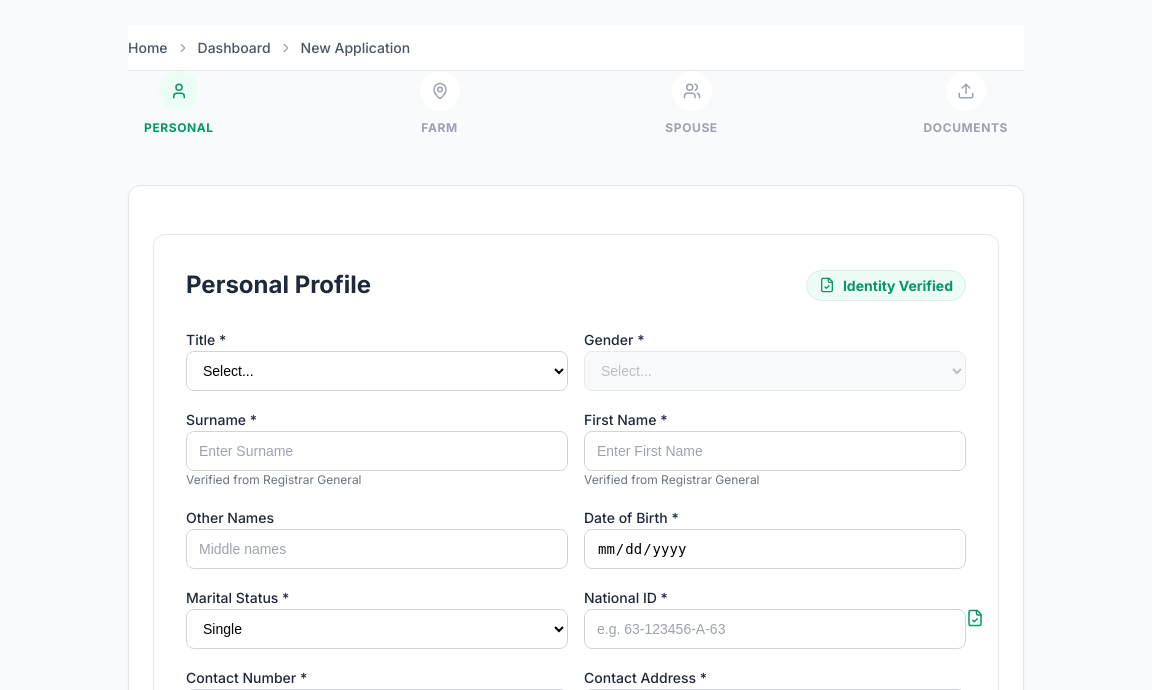
ApplicationForm - No Beneficiary Duplication › should not show beneficiary categories in Farm Details step
The width and height of the screenshot is (1152, 690).
Fill required fields to reach step 2
Select "Mr" in the dropdown below "Title *" at (377, 371), box [186,351,568,391]
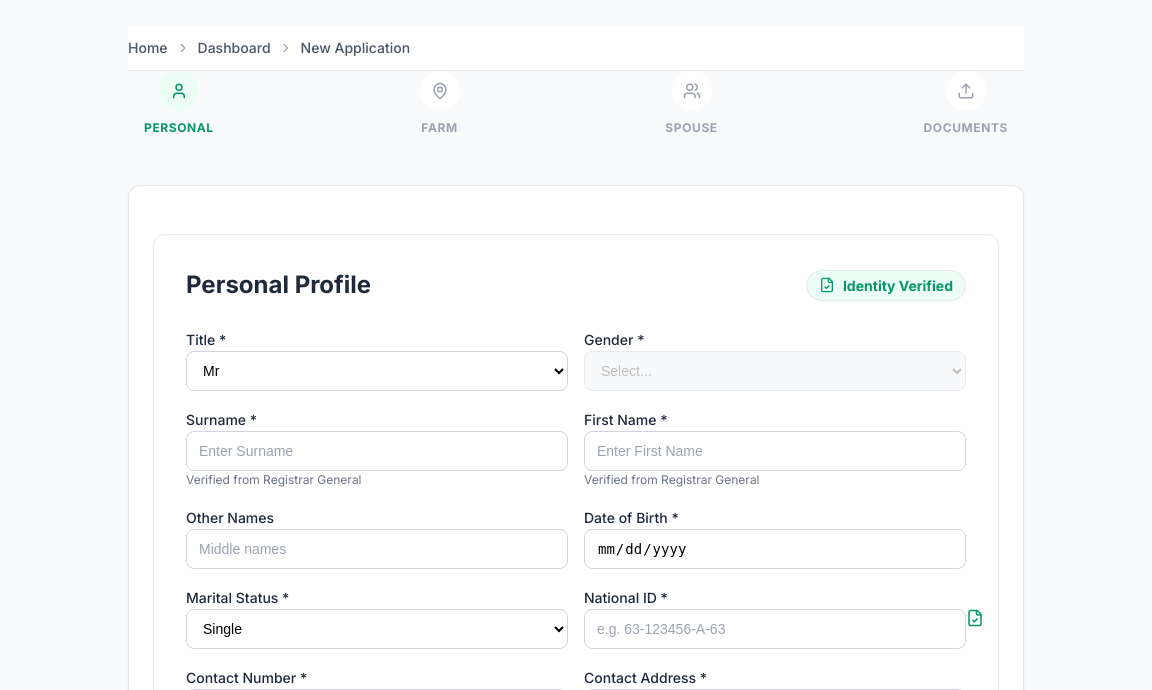
Select "Male" in the dropdown below "Gender *" at (775, 371), box [584,351,966,391]
(page scrolled)
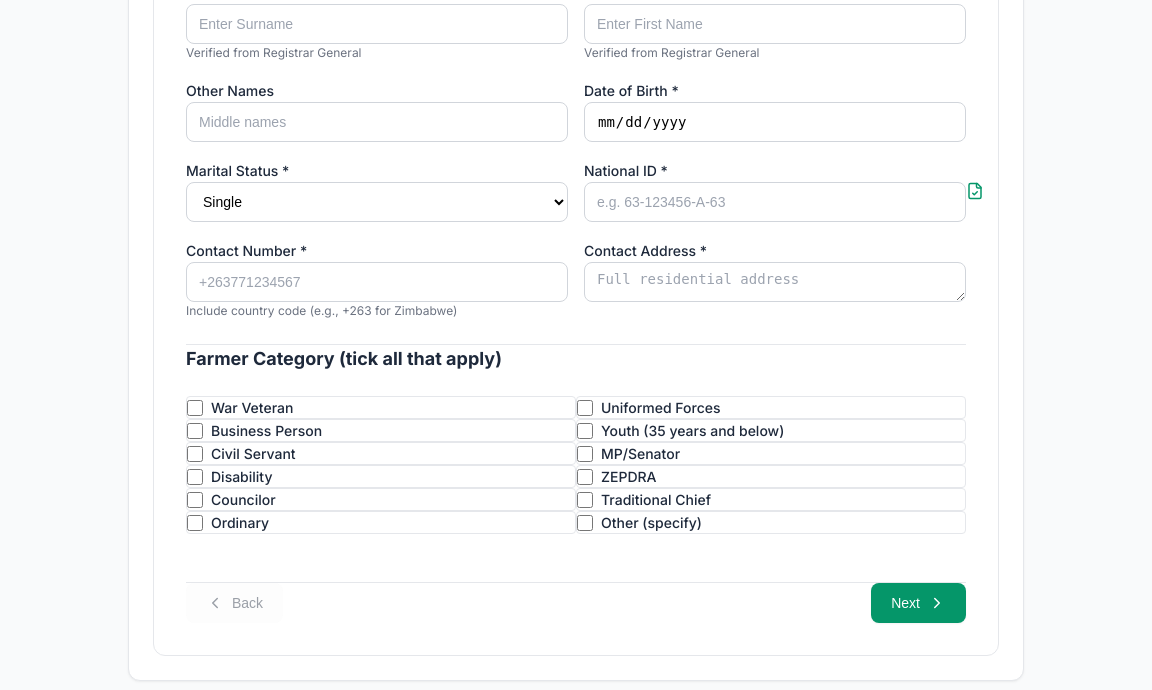
Move to step 2 (Farm Details)
Click the button "Next" at (919, 603), box [871,583,966,623]
(page scrolled)
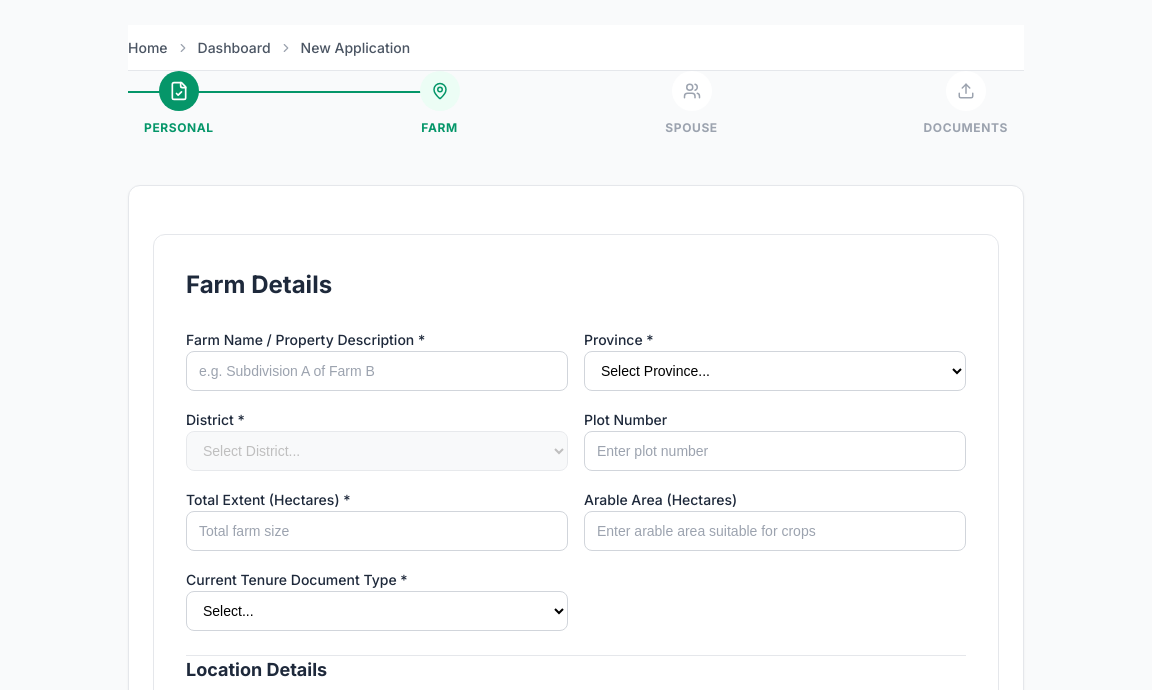
Result: the heading "Farm Details" is shown at [186,270,332,299]
